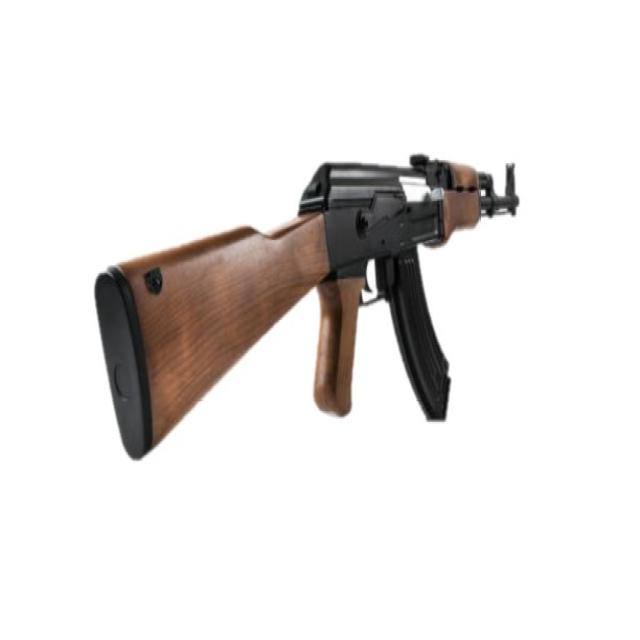rifle: (86, 142, 542, 477)
